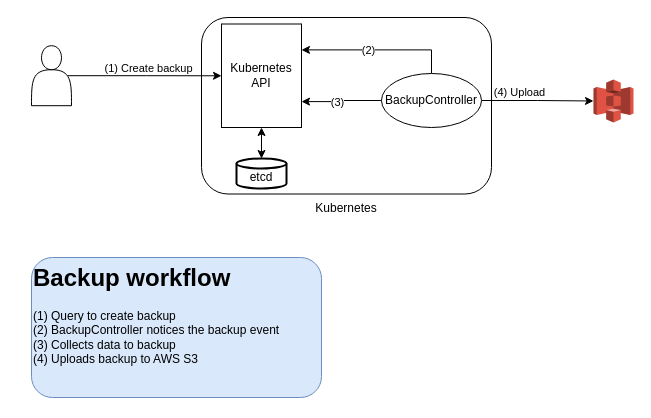
Image size: 651x418. Some labels were removed from this diagram. Here are the shapes that lost their labels. From the top down, the centre of each, then its label:
At point 51,75: "Kubernetes adminsitrator".
At point 613,100: "S3".
